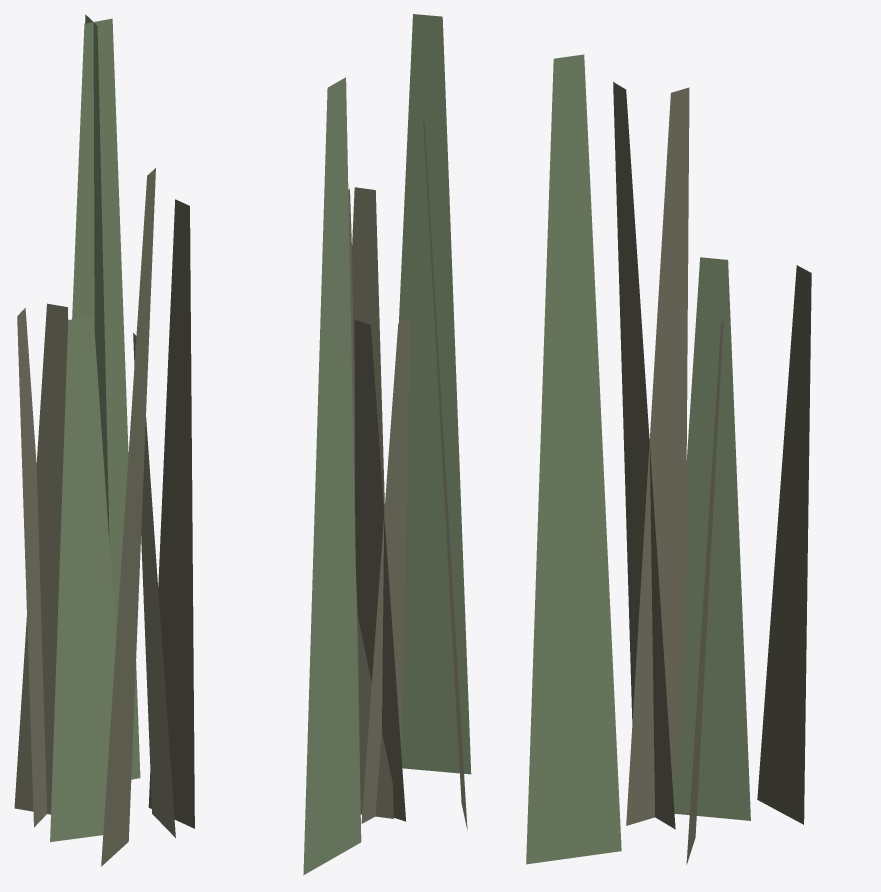
The model's file is shui.pucao@subadult__winter.glb.
3 views of the same model, side by side, from view 1: azimuth 30°, elevation 25°; view 2: azimuth 150°, elevation 25°; view 3: azimuth 270°, elevation 25° (orthographic). The views are drawn at different scales.
Visible parts, largest first — view 1: shui.pucao@subadult__winter; view 2: shui.pucao@subadult__winter; view 3: shui.pucao@subadult__winter.
Boxes of the visible parts, x1,y1,x2,y2 form: shui.pucao@subadult__winter: (14,14,194,866); shui.pucao@subadult__winter: (303,14,471,875); shui.pucao@subadult__winter: (526,54,811,864).
Bounding box in the file's own units: 0.2395 × 1.16 × 0.4332.
